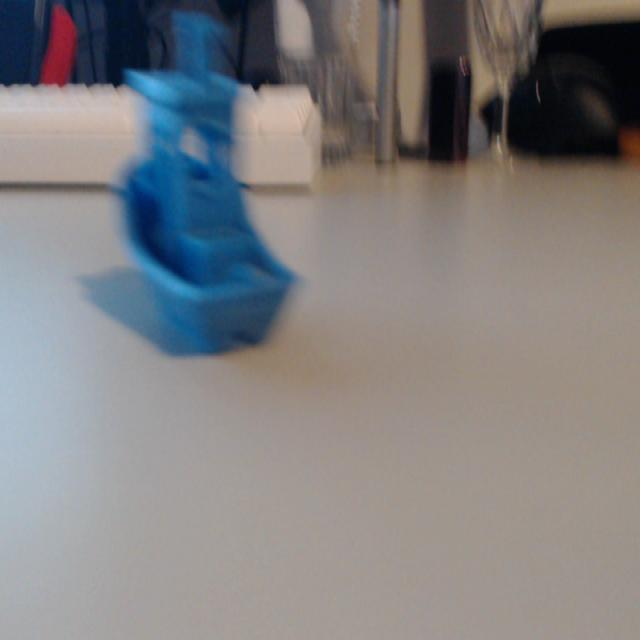benchy: (114, 62, 301, 354)
